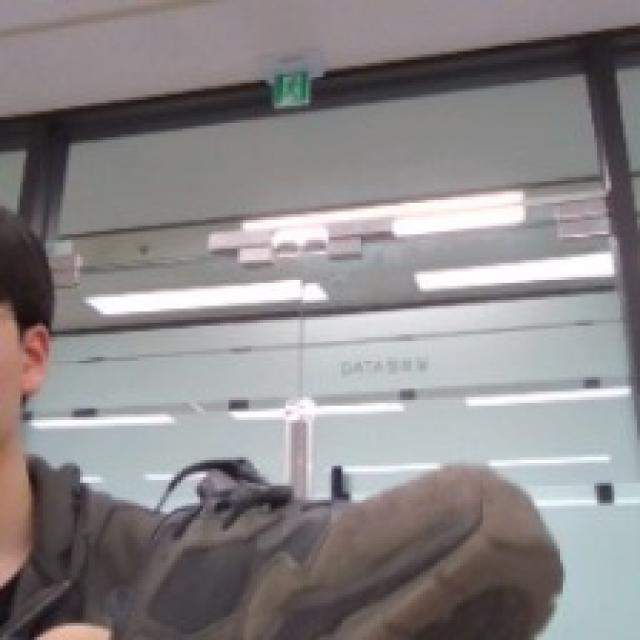shoes: (117, 469, 564, 640)
